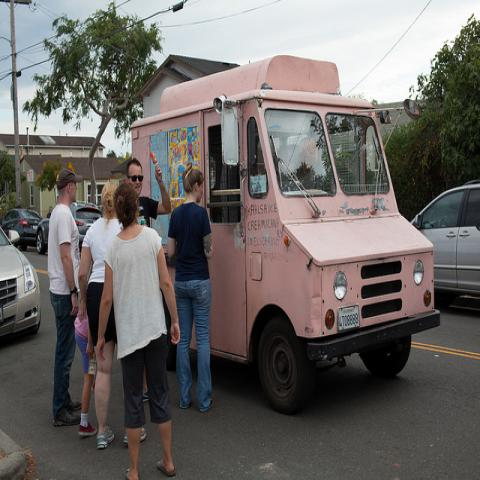car: (409, 179, 479, 304), (0, 225, 41, 346), (1, 207, 42, 251), (70, 202, 102, 253), (36, 213, 52, 254)
truck: (130, 53, 441, 417)
